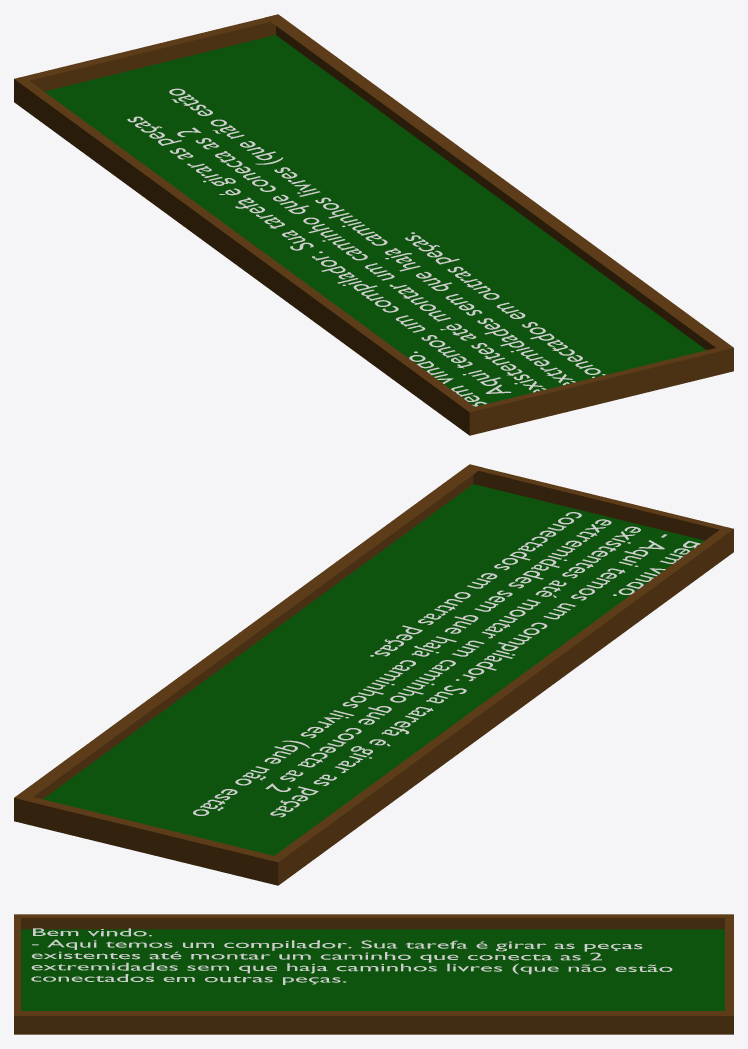
Rendered from Grace10.fbx.
3 renders of one model, top to bottom at view 1: azimuth 30°, elevation 25°; view 2: azimuth 150°, elevation 25°; view 3: azimuth 270°, elevation 25°, orthographic. The views are drawn at different scales.
Parts seen in each view (by area): view 1: Cube, Text; view 2: Cube, Text; view 3: Cube, Text.
Boxes of the visible parts, box(x1,y1,x2,y2) form: Cube: box(14, 14, 733, 435); Text: box(127, 88, 605, 406); Cube: box(14, 464, 733, 885); Text: box(193, 512, 700, 817); Cube: box(14, 914, 733, 1034); Text: box(31, 928, 672, 984).
Bounding box in the file's own units: 624 × 53.07 × 1865.
